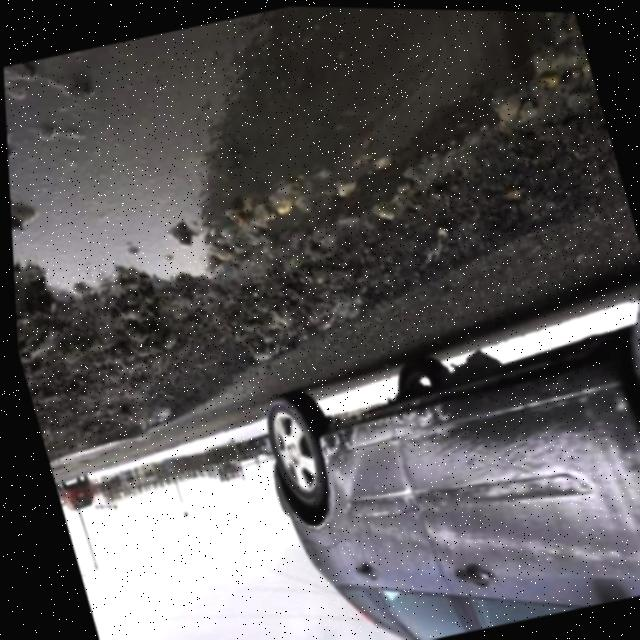Pothole: (0, 0, 640, 384)
